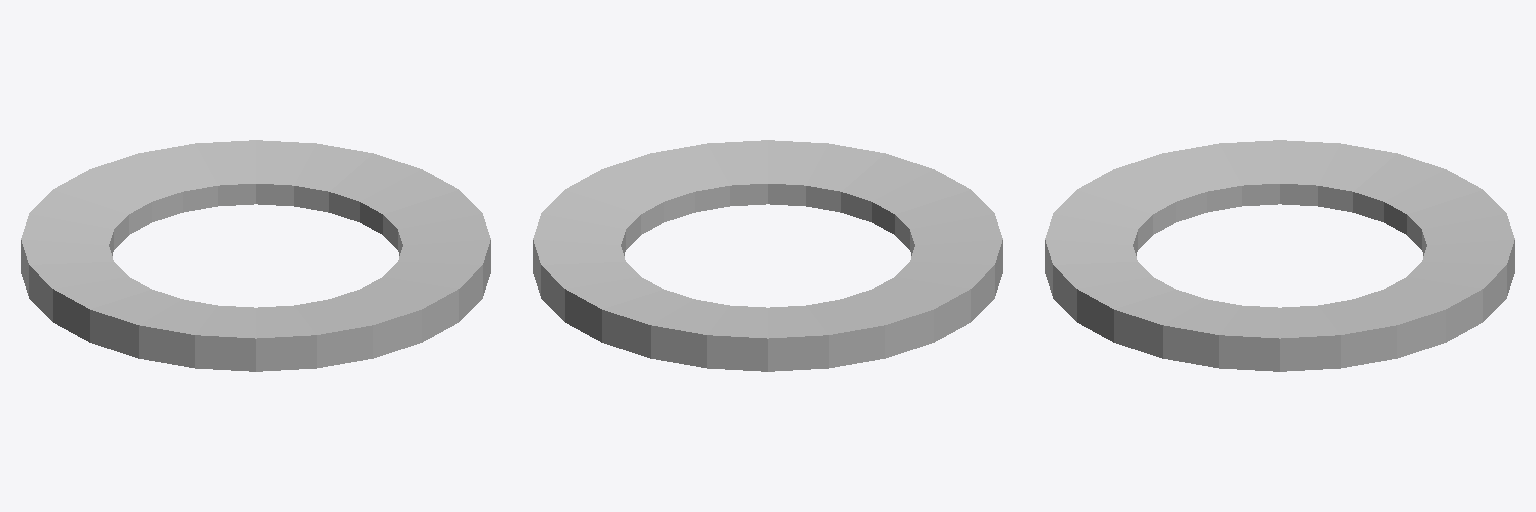
Rendered from NewModel_O.obj.
3 renders of one model, left to right at view 1: azimuth 30°, elevation 25°; view 2: azimuth 150°, elevation 25°; view 3: azimuth 270°, elevation 25°, orthographic.
Parts seen in each view (by area): view 1: Model_O_Circle.005; view 2: Model_O_Circle.005; view 3: Model_O_Circle.005.
Boxes of the visible parts, x1=… form: Model_O_Circle.005: x1=21, y1=140, x2=490, y2=371; Model_O_Circle.005: x1=533, y1=140, x2=1002, y2=371; Model_O_Circle.005: x1=1045, y1=140, x2=1514, y2=371.
Size of the model in its own units: 8.54 by 0.6693 by 8.54.